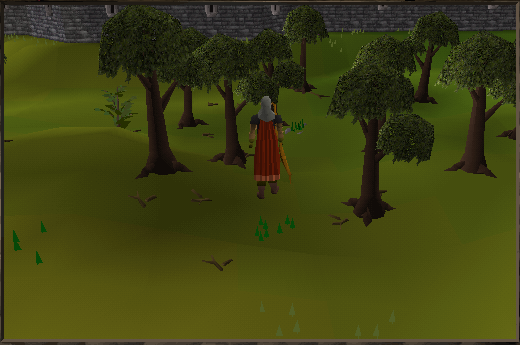Tree: (318, 64, 418, 216), (110, 2, 176, 177), (442, 41, 519, 166), (200, 39, 240, 165), (402, 11, 451, 106), (279, 2, 327, 86), (168, 33, 207, 130)
